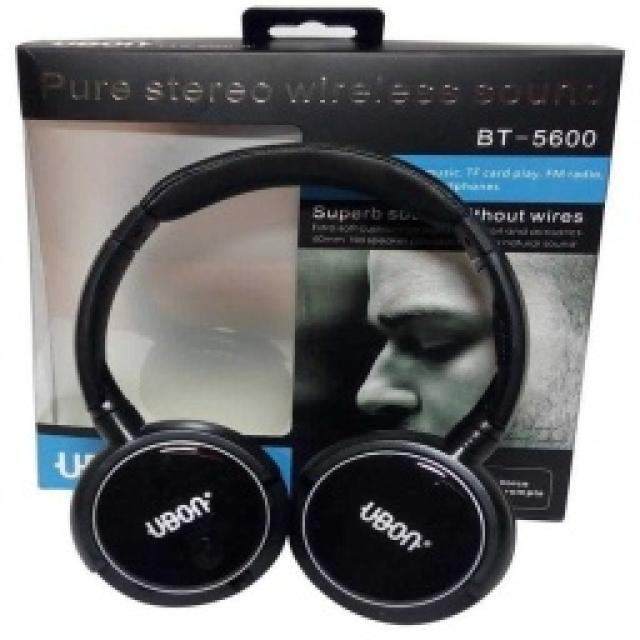headphones: (68, 138, 528, 622)
